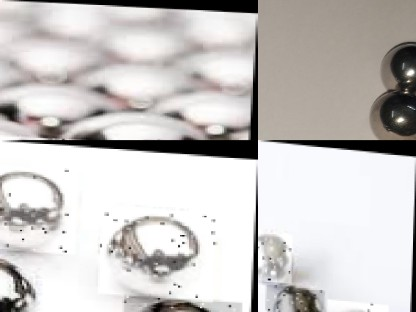ironball: (99, 202, 217, 298), (0, 164, 79, 253), (0, 254, 46, 311), (124, 291, 243, 311), (369, 91, 414, 140), (379, 40, 414, 98), (257, 230, 293, 283), (266, 284, 325, 311), (327, 297, 389, 311)
